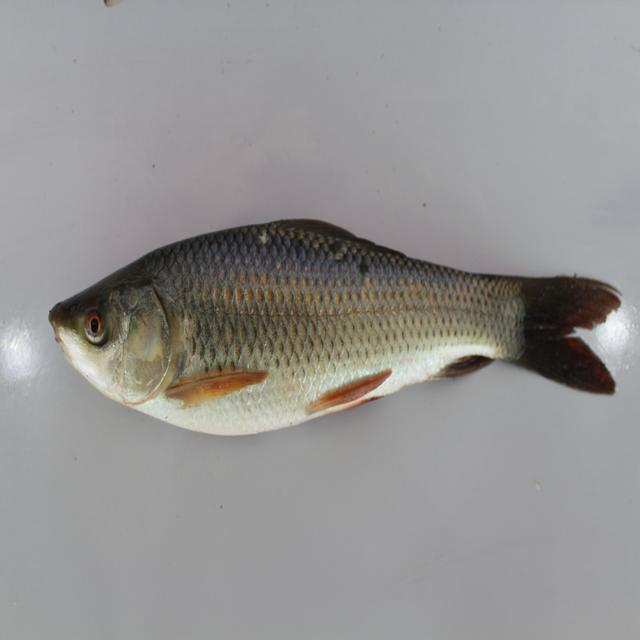Rohu: (40, 218, 625, 429)
